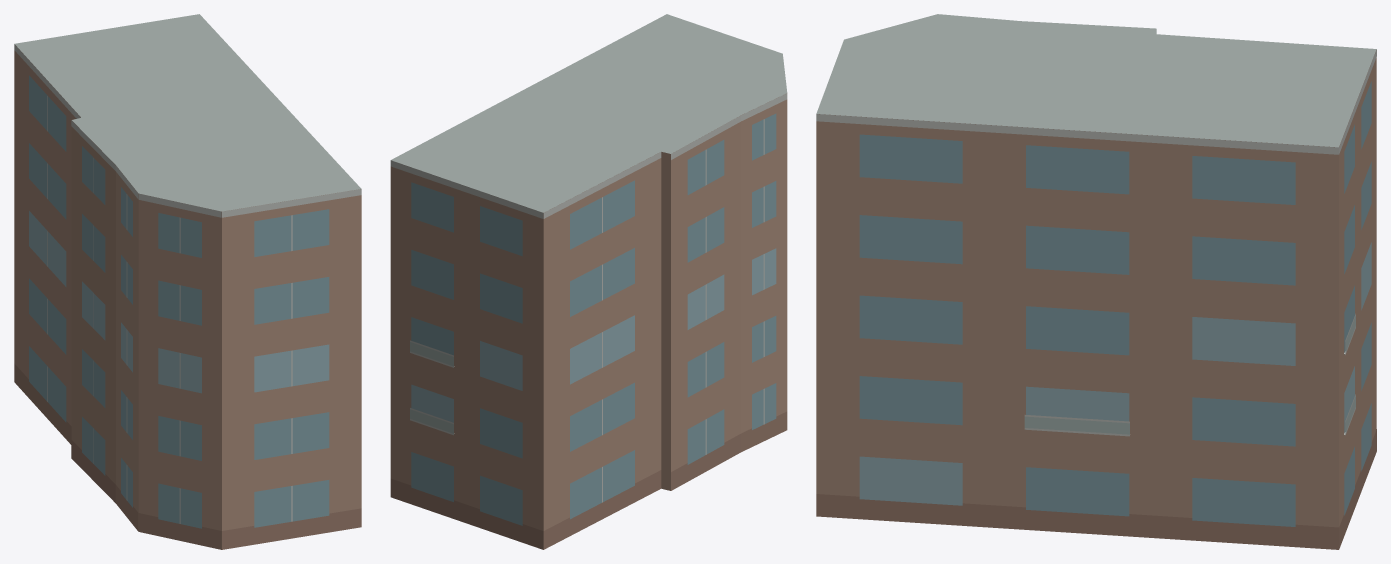
The model's file is survey-upis-32854355.glb.
The picture shows the model from 3 angles, left to right: view 1: azimuth 30°, elevation 25°; view 2: azimuth 150°, elevation 25°; view 3: azimuth 270°, elevation 25°; orthographic projection. The views are drawn at different scales.
Visible parts, largest first — view 1: survey-upis-32854355.tmp; view 2: survey-upis-32854355.tmp; view 3: survey-upis-32854355.tmp.
Boxes of the visible parts, left/top/right/bottom form: survey-upis-32854355.tmp: left=14, top=14, right=361, bottom=549; survey-upis-32854355.tmp: left=390, top=14, right=787, bottom=549; survey-upis-32854355.tmp: left=816, top=14, right=1376, bottom=549.
Size of the model in its own units: 9.39 by 13.2 by 16.67.
